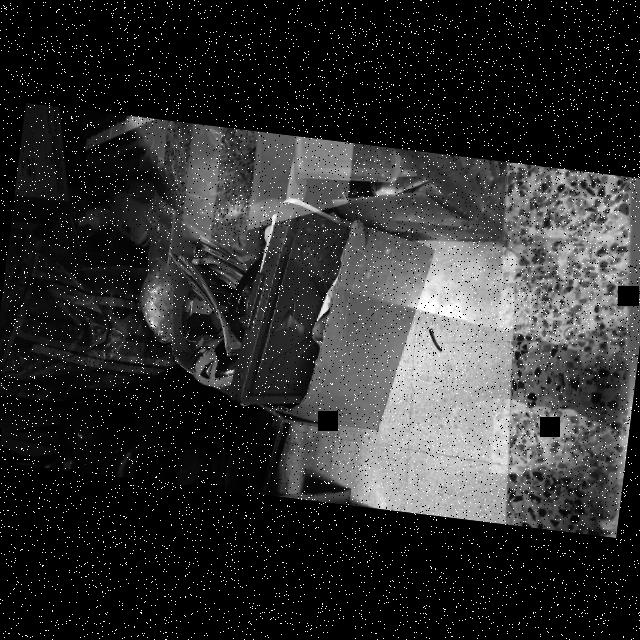cardboard_box: (276, 212, 436, 444)
